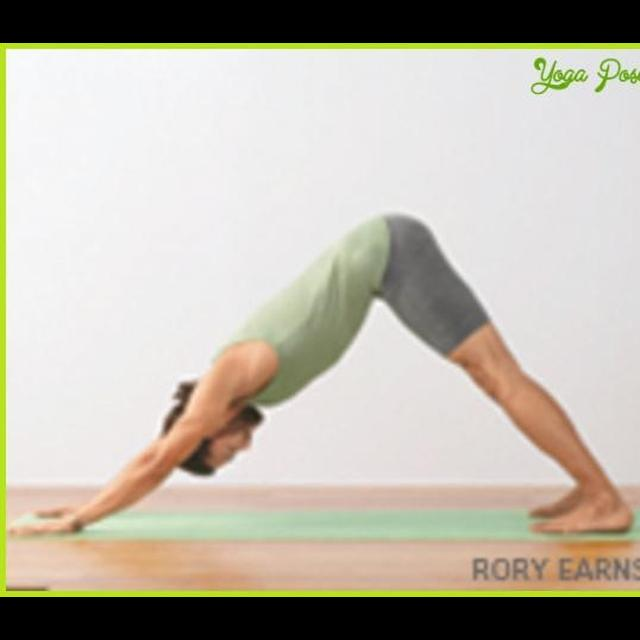Downward-Facing_Dog: (6, 201, 636, 545)
